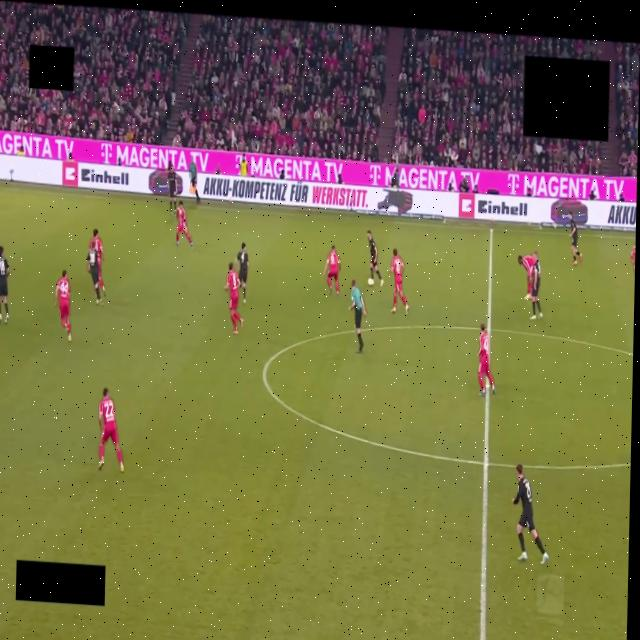ball: (368, 277, 375, 287)
player: (513, 464, 548, 564), (99, 388, 124, 472), (225, 263, 243, 334), (478, 324, 495, 397), (54, 270, 71, 340), (391, 250, 409, 313), (89, 229, 106, 294), (367, 231, 383, 286), (86, 249, 102, 304), (176, 200, 193, 249), (323, 246, 340, 295), (531, 252, 542, 319), (518, 255, 534, 299), (0, 246, 9, 324), (569, 212, 582, 265), (237, 243, 248, 304), (167, 163, 176, 216)
referee: (350, 280, 366, 353)
